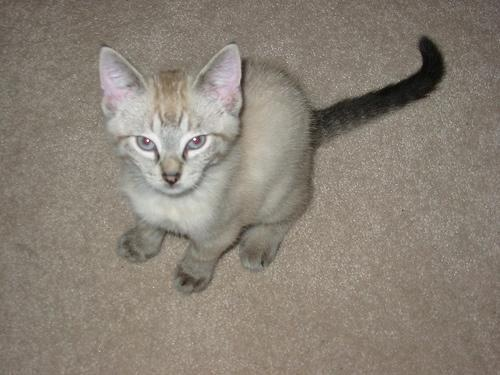cat: (93, 23, 448, 297)
